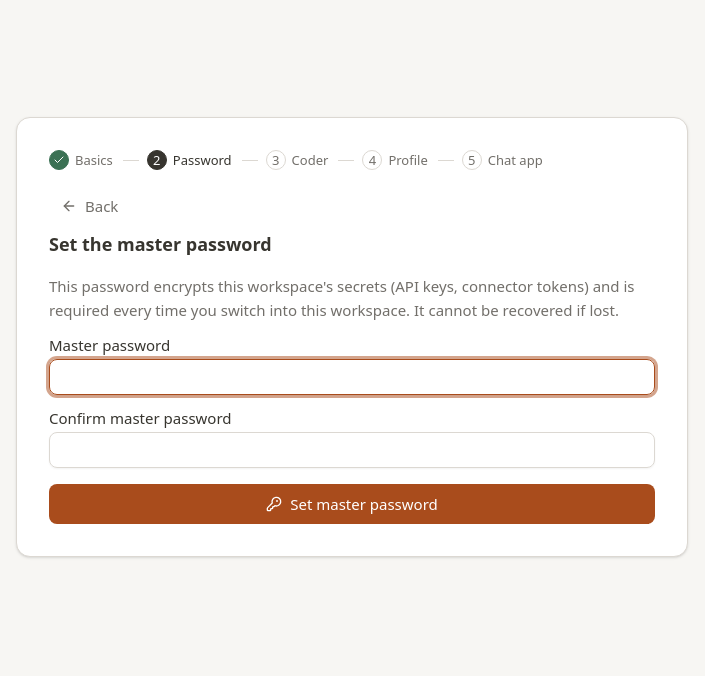
Master password step posts {step:2,master_password,confirm} and advances to Coder
This screenshot has width=705, height=676.
Step 1. Type "wizard-pw-123" into the password field labelled "Master password" → [352, 377], box [49,359,655,395]
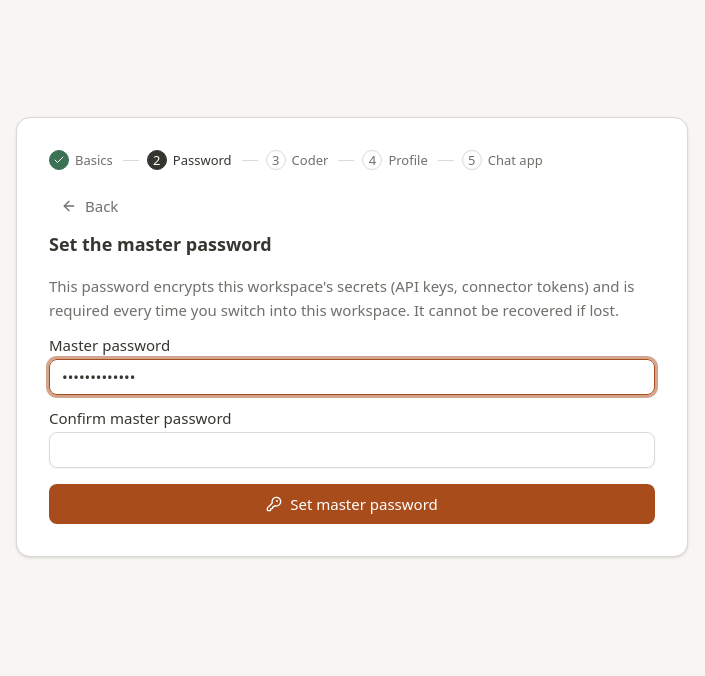
Step 2. Type "wizard-pw-123" into the password field labelled "Confirm master password" → [352, 450], box [49,432,655,468]
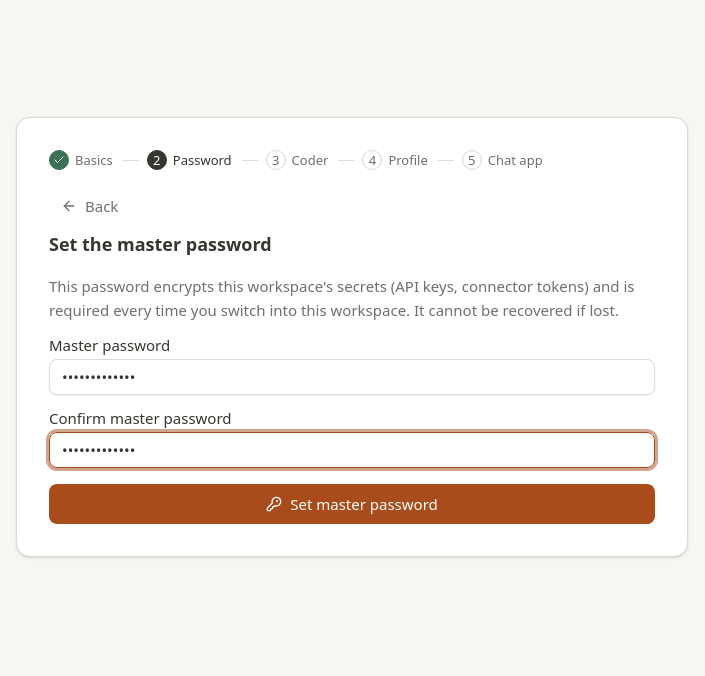
Step 3. Click the button "Set master password" → [352, 504], box [49,484,655,524]
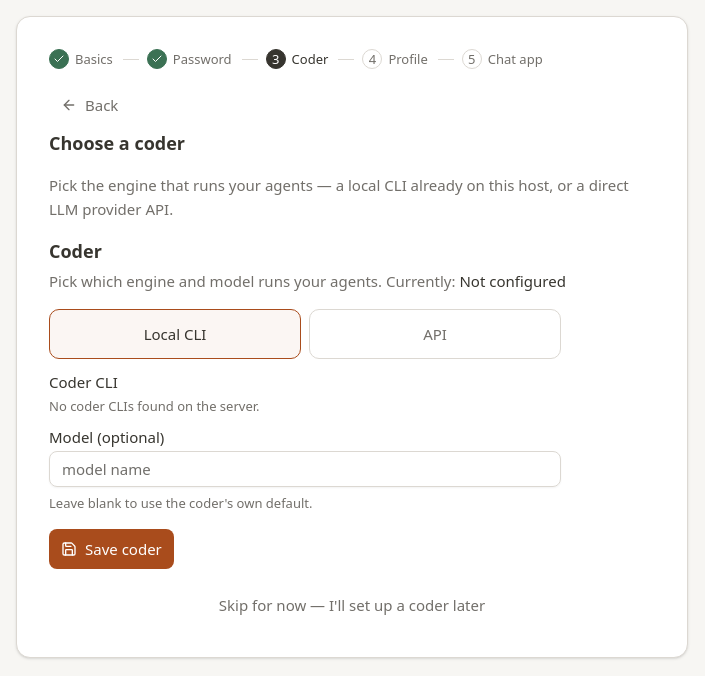
Now the heading "Choose a coder" is shown, box [49,131,185,155]
